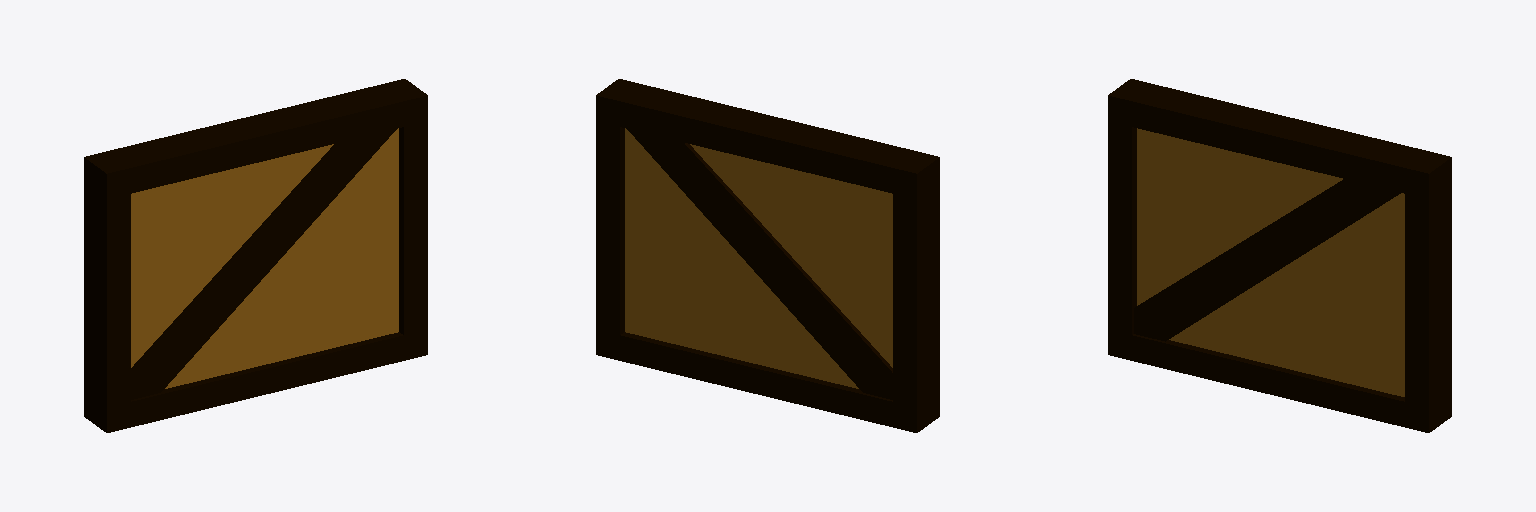
The model's file is Wall02_topSmall.obj.
3 views of the same model, side by side, from view 1: azimuth 30°, elevation 25°; view 2: azimuth 150°, elevation 25°; view 3: azimuth 330°, elevation 25° (orthographic).
Visible parts, largest first — view 1: WallSmall_02_Cube.013; view 2: WallSmall_02_Cube.013; view 3: WallSmall_02_Cube.013.
Part boxes in pixels (bbox=[...]): WallSmall_02_Cube.013: bbox=[84, 79, 427, 432]; WallSmall_02_Cube.013: bbox=[596, 79, 939, 432]; WallSmall_02_Cube.013: bbox=[1108, 79, 1451, 432].
Bounding box in the file's own units: 2.61 × 2.01 × 0.324.